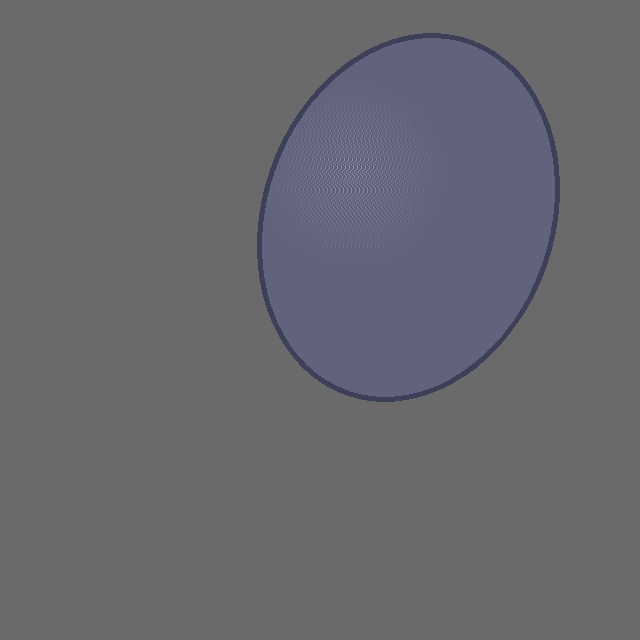lens: (260, 35, 556, 399)
